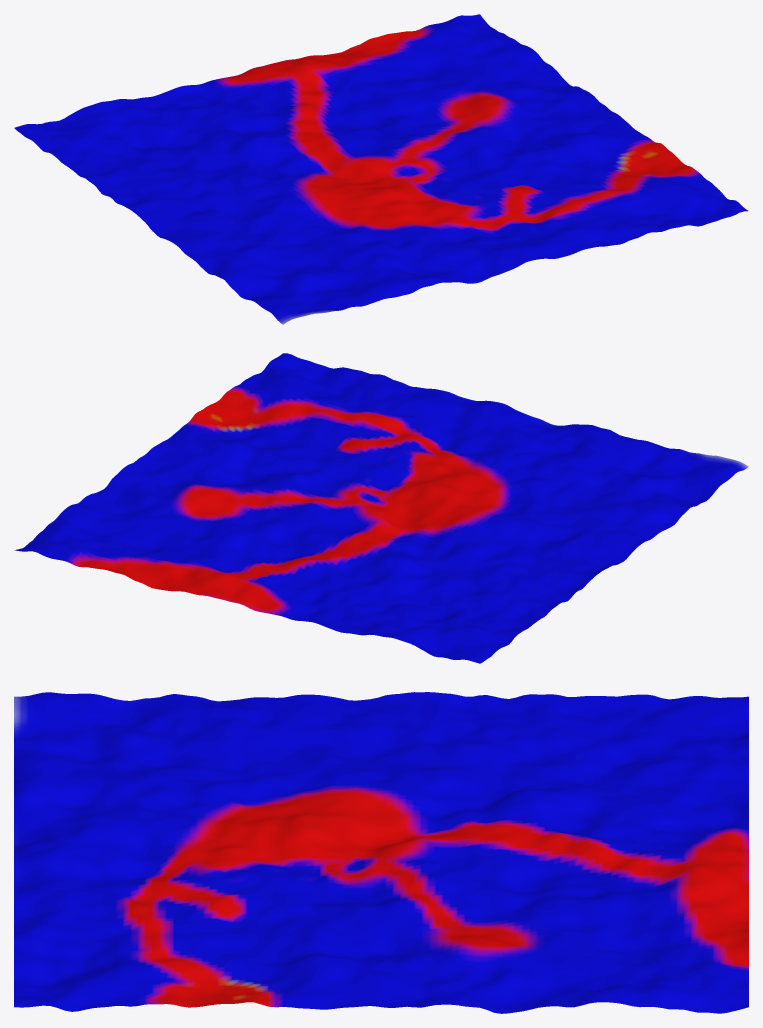
3 views of the same model, one above another, from view 1: azimuth 30°, elevation 25°; view 2: azimuth 150°, elevation 25°; view 3: azimuth 270°, elevation 25° (orthographic). The views are drawn at different scales.
Visible parts, largest first — view 1: Plane; view 2: Plane; view 3: Plane.
Boxes of the visible parts, x1,y1,x2,y2 form: Plane: (14,14,748,324); Plane: (14,353,748,663); Plane: (14,692,748,1013).
Bounding box in the file's own units: 15143 × 495 × 15143.
